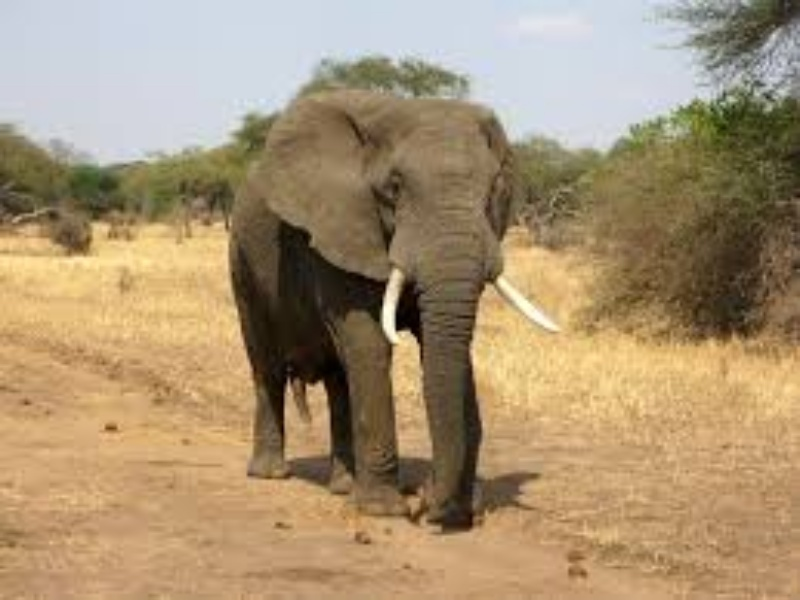elephant: (195, 71, 552, 521)
